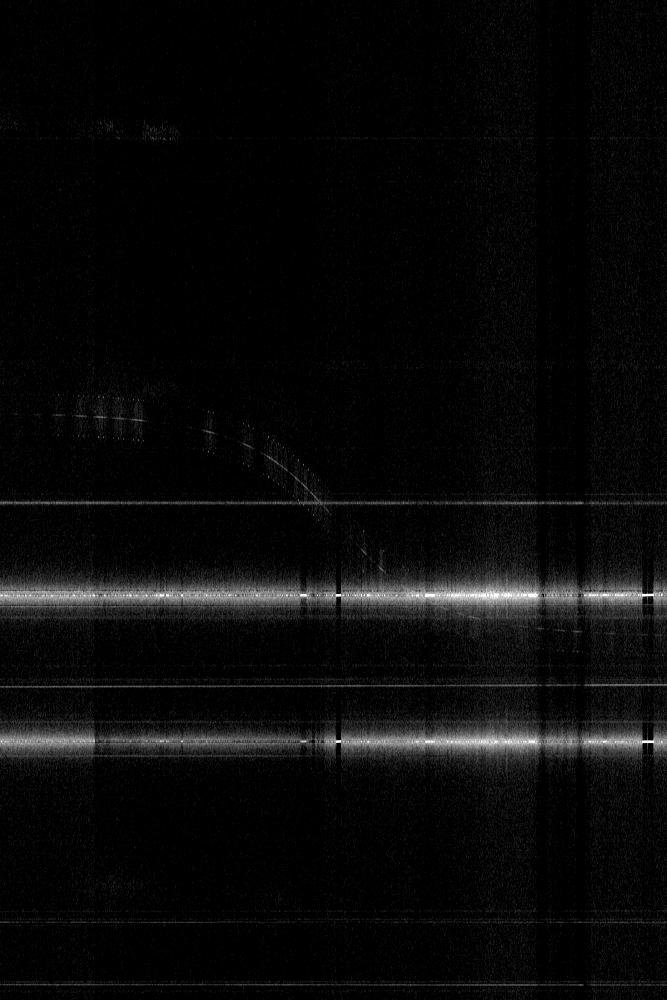signal: (0, 0, 666, 999)
